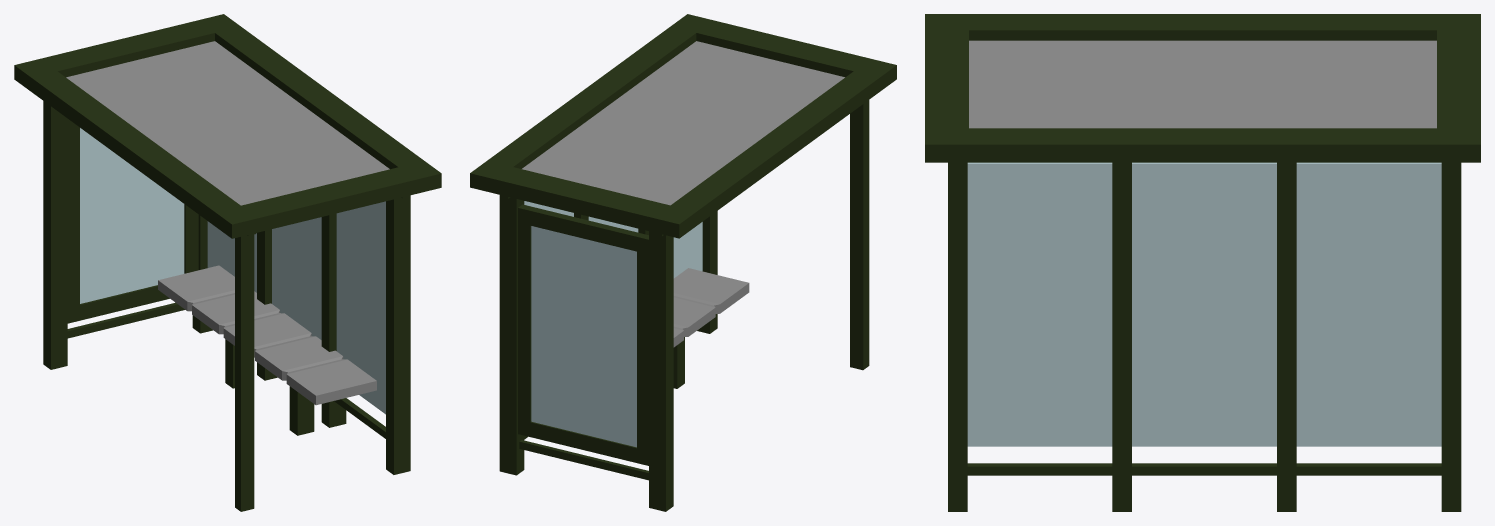
File: BusStop.fbx
3 renders of one model, left to right at view 1: azimuth 30°, elevation 25°; view 2: azimuth 150°, elevation 25°; view 3: azimuth 270°, elevation 25°, orthographic. The views are drawn at different scales.
Visible parts, largest first — view 1: Bus Stop; view 2: Bus Stop; view 3: Bus Stop.
Part boxes in pixels (bbox=[...]): Bus Stop: bbox=[14, 14, 441, 511]; Bus Stop: bbox=[470, 14, 896, 511]; Bus Stop: bbox=[925, 14, 1480, 511].
Bounding box in the file's own units: 156 × 212 × 280.
